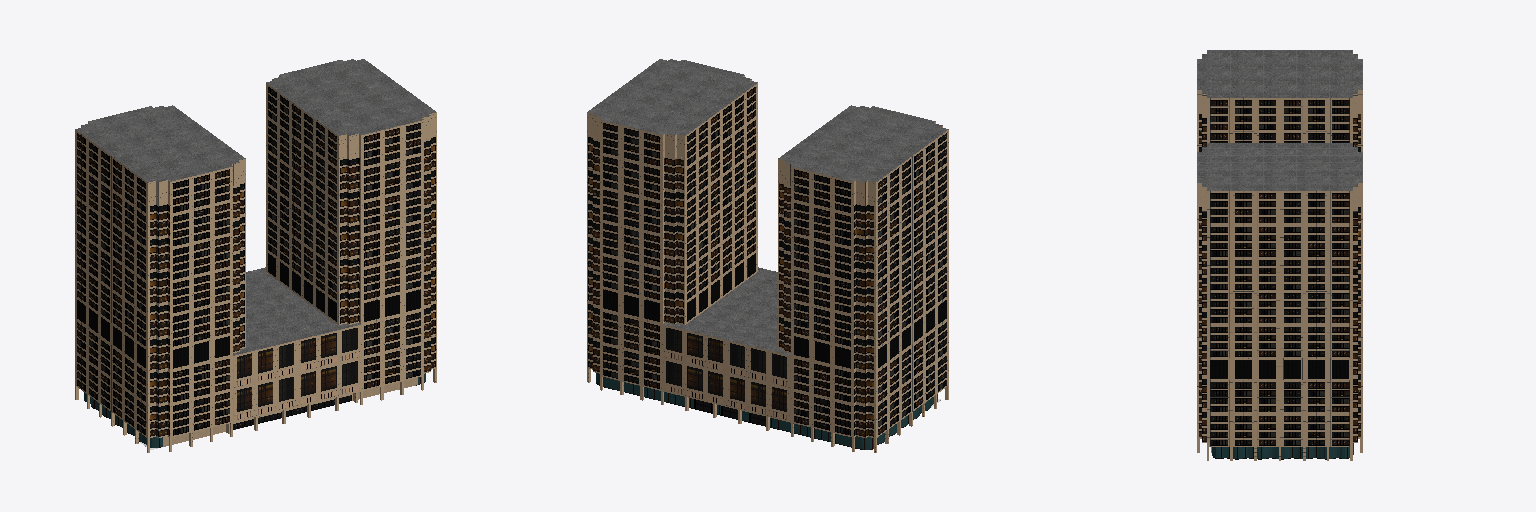
3 views of the same model, side by side, from view 1: azimuth 30°, elevation 25°; view 2: azimuth 150°, elevation 25°; view 3: azimuth 270°, elevation 25° (orthographic).
Visible parts, largest first — view 1: Office_Building_window1-4_0, Office_Building_Highrise_Facade.002_0, Office_Building_concrete_tiles.002_0, Office_Building_window2-3.002_0, Office_Building_Material.003_0, Office_Building_glass_panel.002_0; view 2: Office_Building_window1-4_0, Office_Building_Highrise_Facade.002_0, Office_Building_concrete_tiles.002_0, Office_Building_window2-3.002_0, Office_Building_glass_panel.002_0; view 3: Office_Building_window1-4_0, Office_Building_Highrise_Facade.002_0, Office_Building_concrete_tiles.002_0, Office_Building_window2-3.002_0, Office_Building_glass_panel.002_0.
Part boxes in pixels (left/top/right/bottom): Office_Building_window1-4_0: left=77, top=87, right=435, bottom=436; Office_Building_Highrise_Facade.002_0: left=75, top=76, right=436, bottom=452; Office_Building_concrete_tiles.002_0: left=75, top=59, right=435, bottom=355; Office_Building_window2-3.002_0: left=77, top=253, right=420, bottom=419; Office_Building_Material.003_0: left=163, top=378, right=417, bottom=446; Office_Building_glass_panel.002_0: left=84, top=373, right=425, bottom=447; Office_Building_window1-4_0: left=588, top=87, right=946, bottom=436; Office_Building_Highrise_Facade.002_0: left=587, top=76, right=948, bottom=452; Office_Building_concrete_tiles.002_0: left=588, top=59, right=948, bottom=355; Office_Building_window2-3.002_0: left=603, top=253, right=946, bottom=426; Office_Building_glass_panel.002_0: left=596, top=373, right=937, bottom=449; Office_Building_window1-4_0: left=1199, top=100, right=1360, bottom=445; Office_Building_Highrise_Facade.002_0: left=1197, top=90, right=1362, bottom=460; Office_Building_concrete_tiles.002_0: left=1197, top=50, right=1362, bottom=190; Office_Building_window2-3.002_0: left=1210, top=360, right=1348, bottom=378; Office_Building_glass_panel.002_0: left=1212, top=443, right=1353, bottom=459.
Bounding box in the file's own units: 37.09 × 33.19 × 18.36.
Materials: 7 (7 with a texture image).